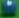blue: (0, 0, 19, 18)
